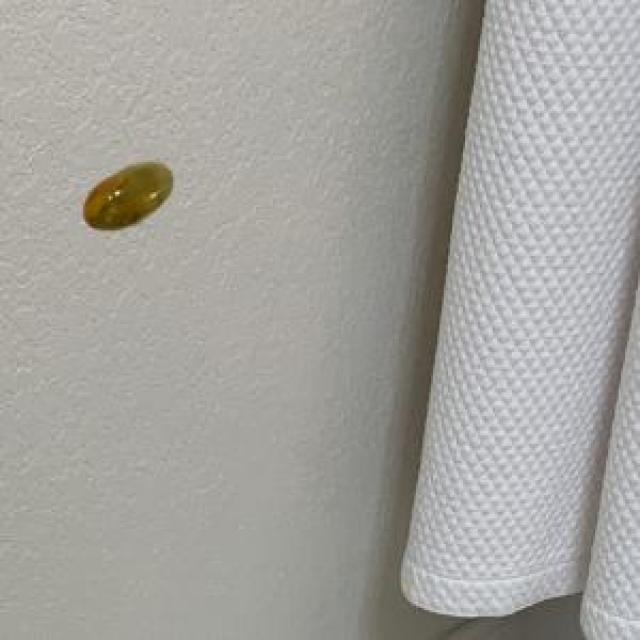Fish_Oil: (77, 154, 186, 240)
